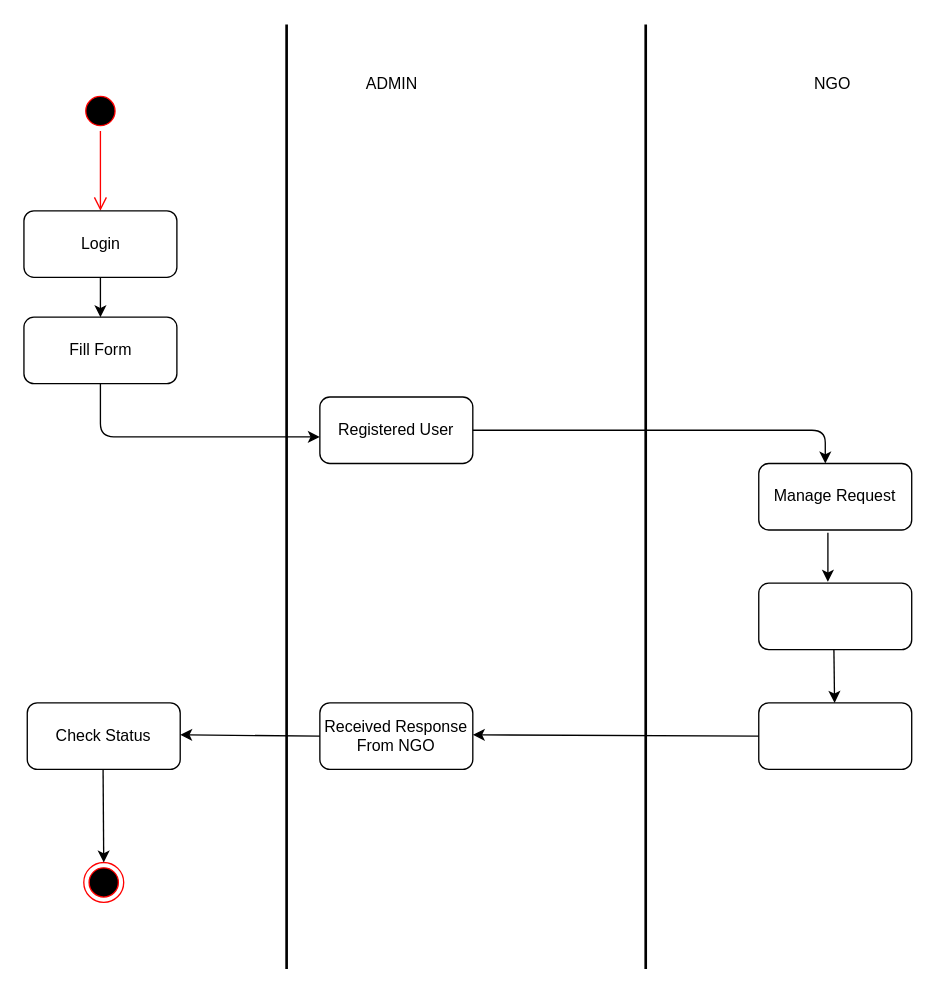
Image size: 935x992. Some labels were removed from this diagram. Each missing label, with the box of its shape:
Response: (757, 702, 912, 769)
USER: (79, 90, 120, 131)
Verify User: (757, 582, 912, 650)
